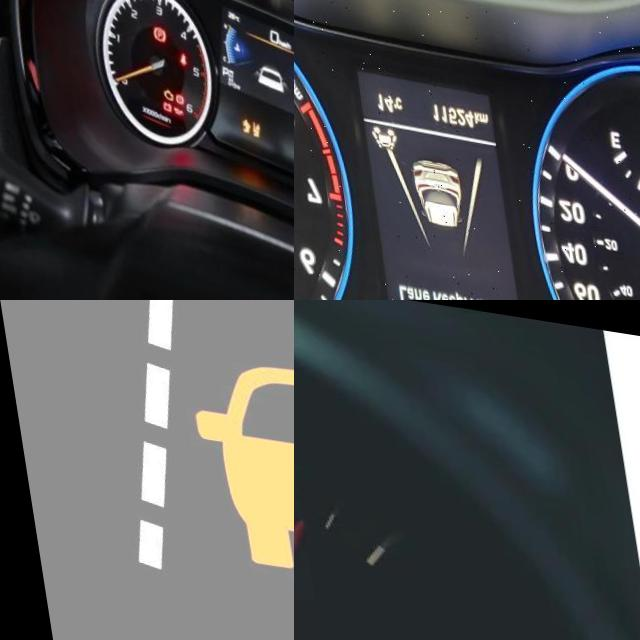Seat Belt: (169, 44, 179, 59)
